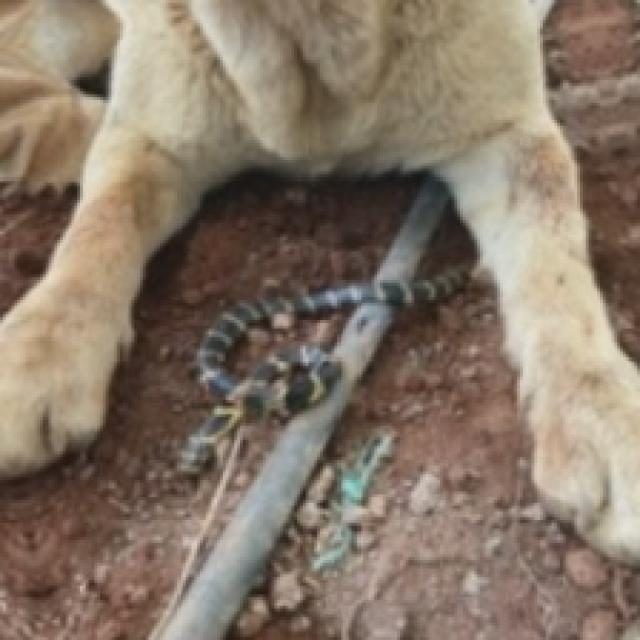king cobra: (177, 283, 374, 474)
